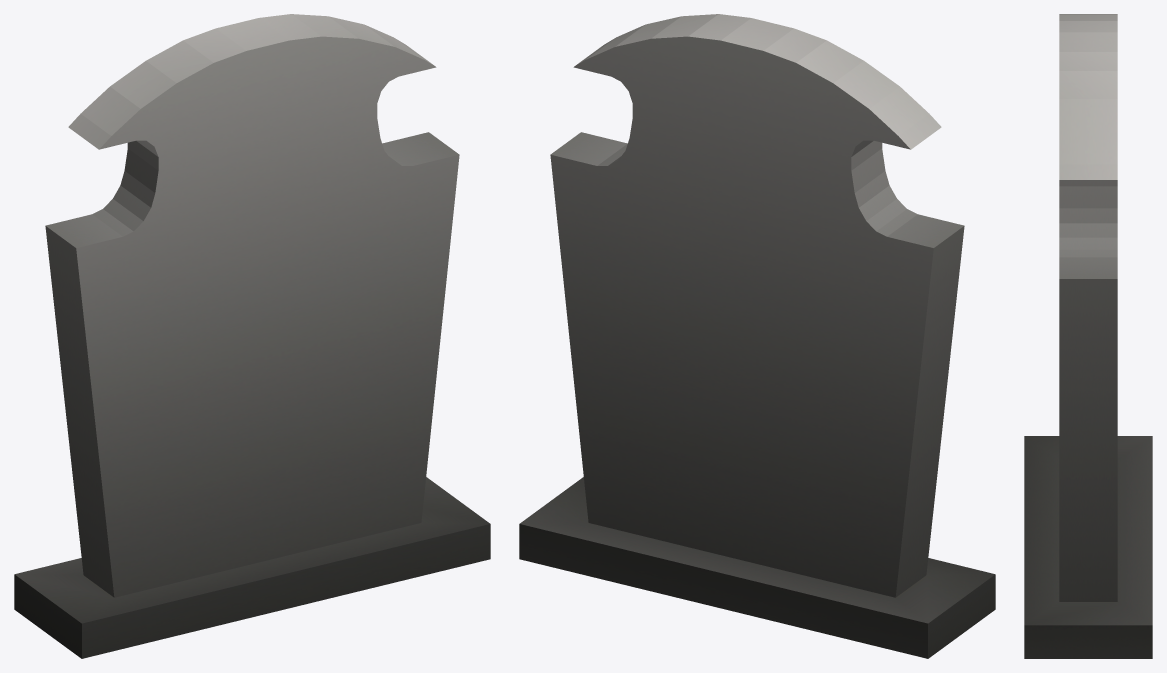
File: tombston_model_06.fbx
The picture shows the model from 3 angles, left to right: view 1: azimuth 30°, elevation 25°; view 2: azimuth 150°, elevation 25°; view 3: azimuth 270°, elevation 25°; orthographic projection. The views are drawn at different scales.
Visible parts, largest first — view 1: Cube.005; view 2: Cube.005; view 3: Cube.005.
Part boxes in pixels (x1,y1,x2,y2): Cube.005: [14, 14, 490, 658]; Cube.005: [519, 14, 995, 658]; Cube.005: [1024, 14, 1152, 658].
Bounding box in the file's own units: 0.7 × 0.9 × 0.2.
